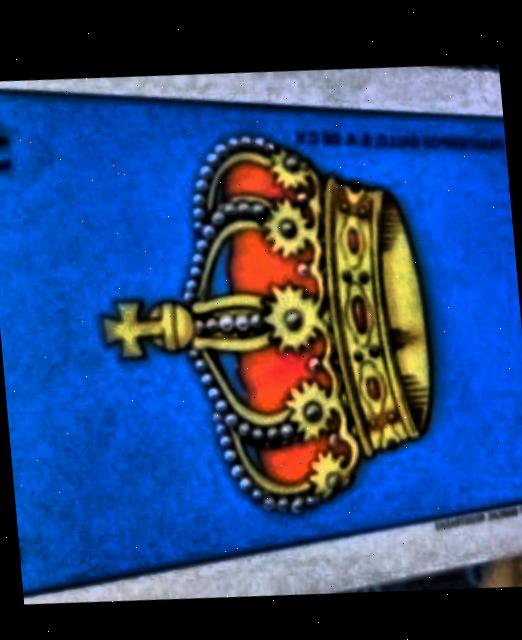La Corona: (0, 92, 522, 594)
